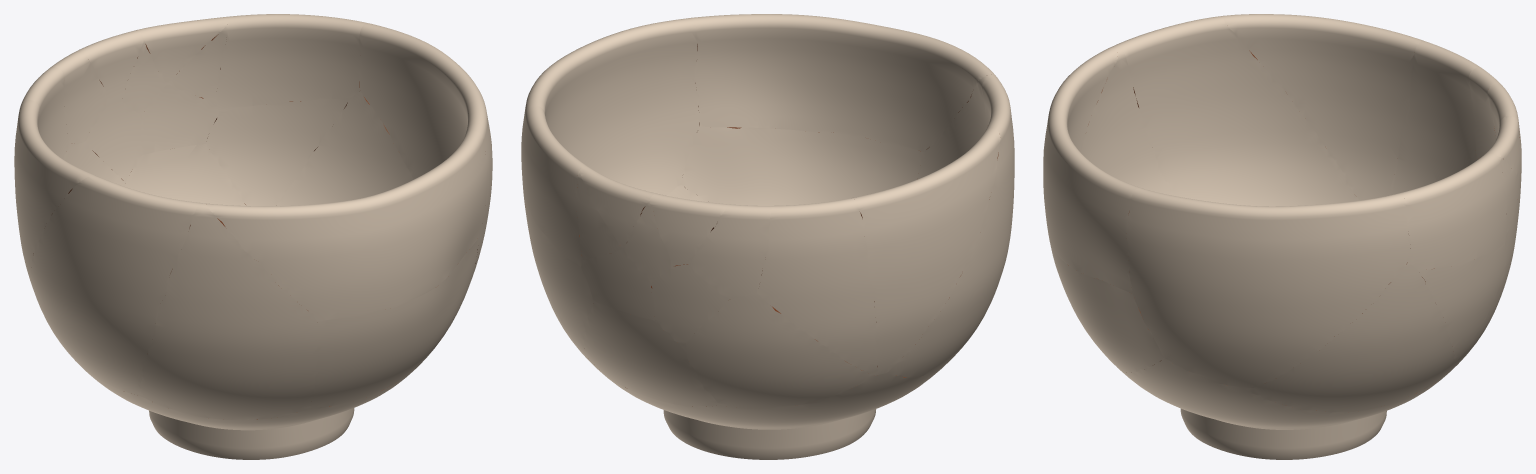
Rendered from Z3_fling.glb.
The picture shows the model from 3 angles, left to right: view 1: azimuth 30°, elevation 25°; view 2: azimuth 150°, elevation 25°; view 3: azimuth 270°, elevation 25°; orthographic projection.
Visible parts, largest first — view 1: shard_17, shard_18, shard_16, shard_15, shard_08, shard_19, shard_11, shard_00, shard_14, shard_13, shard_10, shard_06 (+8 smaller); view 2: shard_17, shard_15, shard_13, shard_19, shard_09, shard_12, shard_00, shard_16, shard_10, shard_08, shard_05, shard_07 (+7 smaller); view 3: shard_15, shard_16, shard_13, shard_14, shard_17, shard_00, shard_09, shard_08, shard_18, shard_19, shard_11, shard_05 (+5 smaller).
Boxes of the visible parts, x1=… form: shard_17: x1=206, y1=131, x2=487, y2=320; shard_18: x1=139, y1=203, x2=318, y2=419; shard_16: x1=30, y1=175, x2=199, y2=395; shard_15: x1=359, y1=22, x2=492, y2=277; shard_08: x1=215, y1=14, x2=365, y2=112; shard_19: x1=310, y1=237, x2=478, y2=407; shard_11: x1=206, y1=98, x2=349, y2=206; shard_00: x1=76, y1=314, x2=456, y2=459; shard_14: x1=276, y1=91, x2=413, y2=206; shard_13: x1=14, y1=100, x2=94, y2=283; shard_10: x1=125, y1=143, x2=246, y2=205; shard_06: x1=141, y1=84, x2=218, y2=154; shard_17: x1=691, y1=14, x2=993, y2=151; shard_15: x1=521, y1=18, x2=699, y2=195; shard_13: x1=853, y1=127, x2=1000, y2=374; shard_19: x1=681, y1=126, x2=923, y2=205; shard_09: x1=758, y1=198, x2=877, y2=375; shard_12: x1=681, y1=293, x2=874, y2=408; shard_00: x1=596, y1=184, x2=947, y2=459; shard_16: x1=886, y1=77, x2=1014, y2=377; shard_10: x1=584, y1=301, x2=719, y2=406; shard_08: x1=521, y1=106, x2=587, y2=266; shard_05: x1=689, y1=204, x2=771, y2=300; shard_07: x1=650, y1=264, x2=727, y2=346; shard_15: x1=1126, y1=187, x2=1410, y2=389; shard_16: x1=1115, y1=16, x2=1358, y2=206; shard_13: x1=1223, y1=14, x2=1423, y2=200; shard_14: x1=1248, y1=262, x2=1454, y2=412; shard_17: x1=1043, y1=48, x2=1139, y2=293; shard_00: x1=1118, y1=357, x2=1450, y2=459; shard_09: x1=1387, y1=41, x2=1481, y2=195; shard_08: x1=1400, y1=153, x2=1506, y2=269; shard_18: x1=1081, y1=45, x2=1174, y2=195; shard_19: x1=1049, y1=239, x2=1164, y2=372; shard_11: x1=1419, y1=243, x2=1506, y2=363; shard_05: x1=1469, y1=67, x2=1502, y2=158.
Bounding box in the file's own units: 0.1228 × 0.0871 × 0.122.
